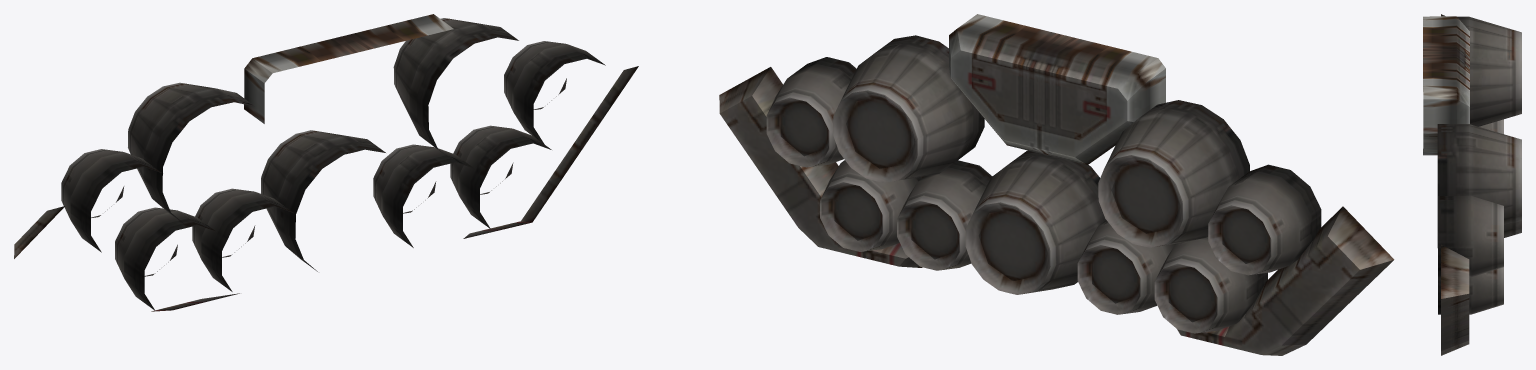
File: engine_hgn_battlecruiser_02_ion_03_t3.glb
3 views of the same model, side by side, from view 1: azimuth 30°, elevation 25°; view 2: azimuth 150°, elevation 25°; view 3: azimuth 270°, elevation 25° (orthographic). The views are drawn at different scales.
Parts seen in each view (by area): view 1: ion_engine_bc_l_01; view 2: ion_engine_bc_l_01; view 3: ion_engine_bc_l_01.
Part boxes in pixels (bbox=[...]): ion_engine_bc_l_01: bbox=[14, 14, 638, 311]; ion_engine_bc_l_01: bbox=[719, 14, 1394, 355]; ion_engine_bc_l_01: bbox=[1423, 14, 1521, 355].
Bounding box in the file's own units: 2.48 × 0.902 × 0.3804.
1 material, 1 textured.
